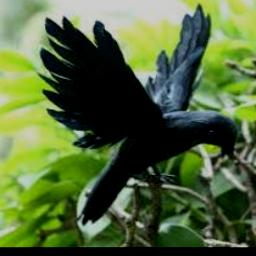Crow: (39, 2, 238, 226)
